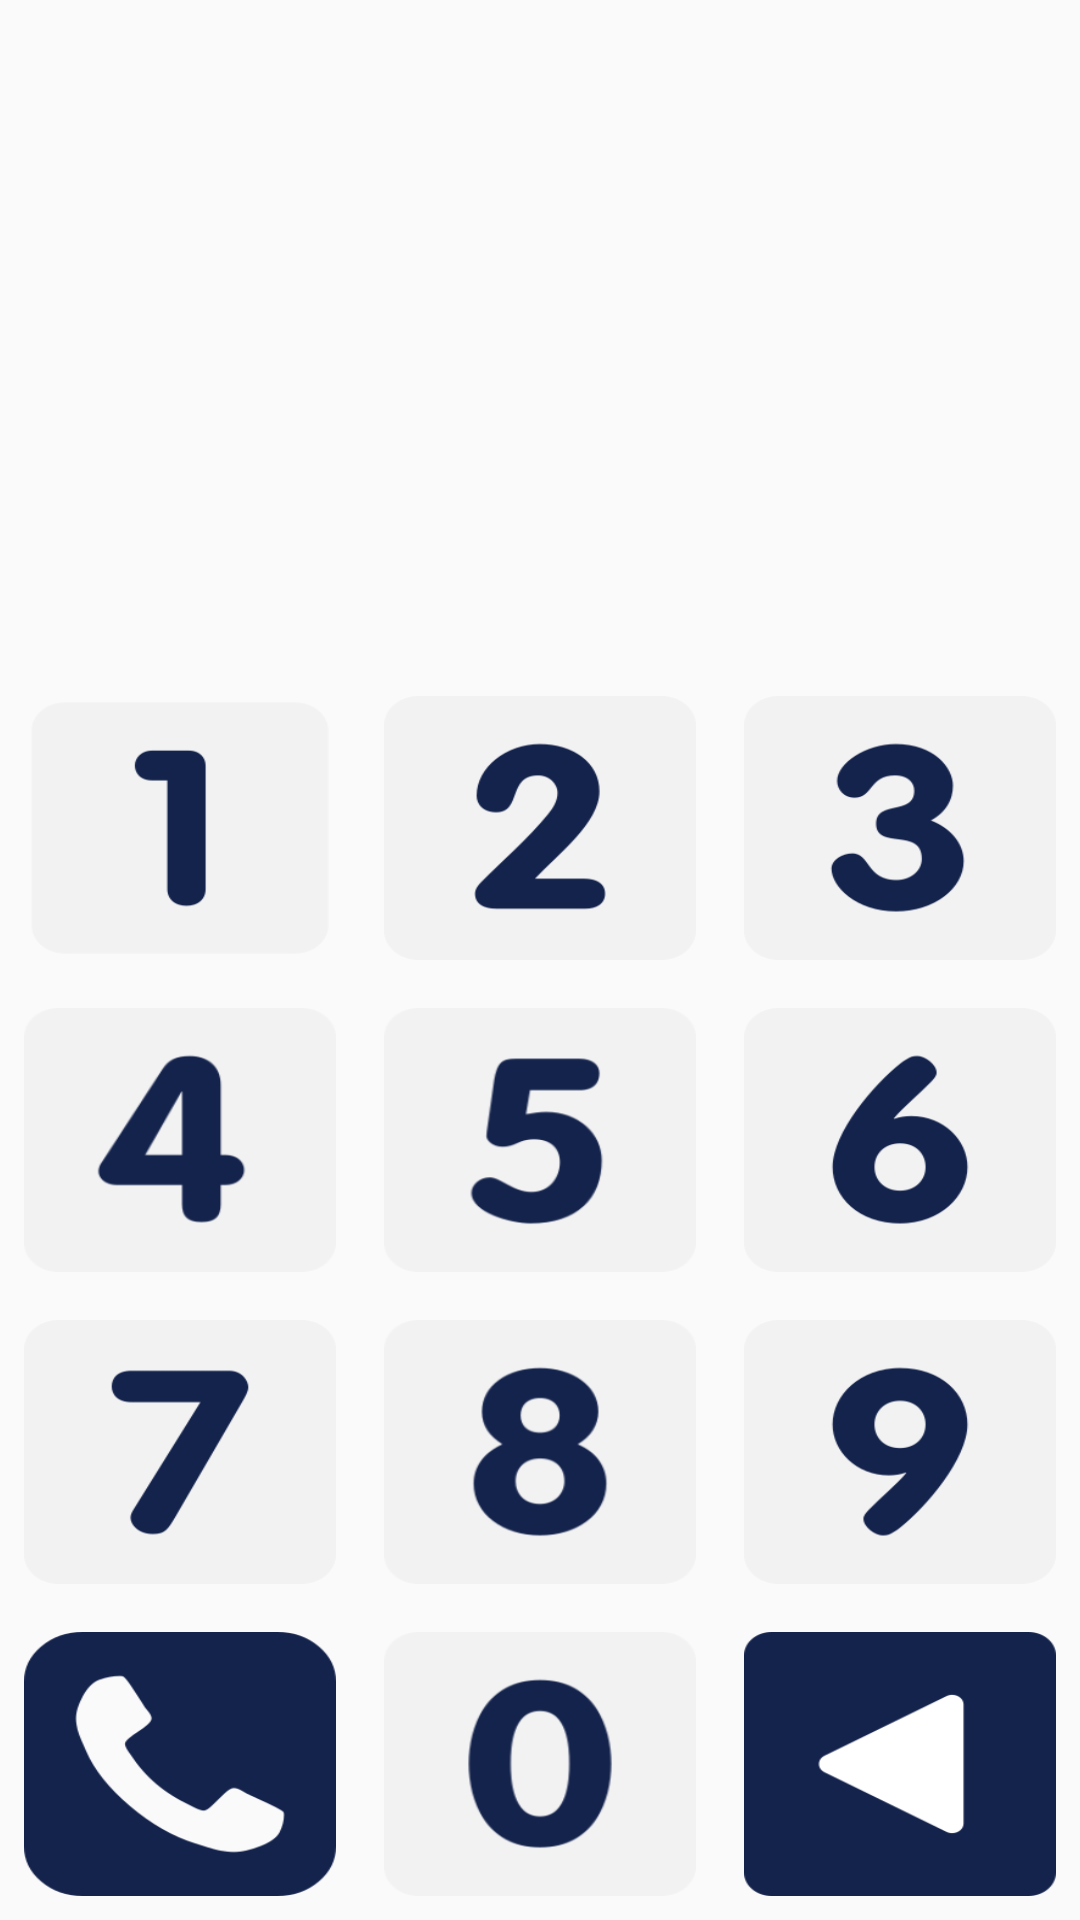

Point at icon controls on the screen. Image size 1080px x 1920px, points as (x,y).
callbtn: (180,1764)
leftarrow: (900,1764)
